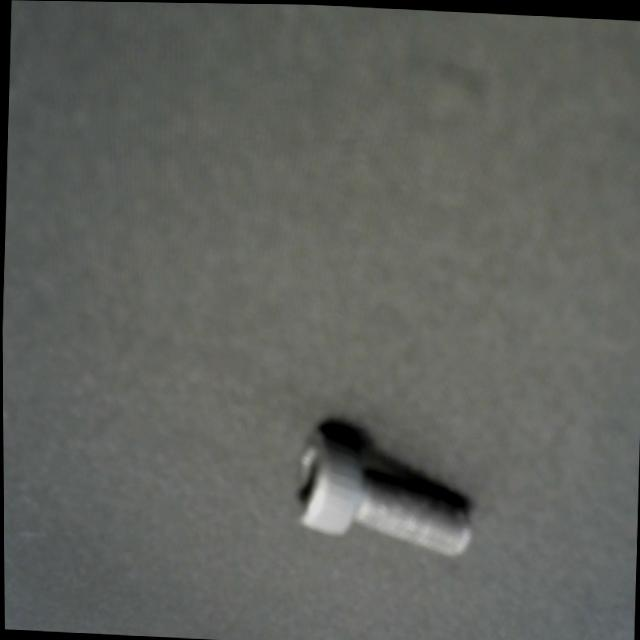SocketHeadCapScrew: (280, 409, 481, 577)
